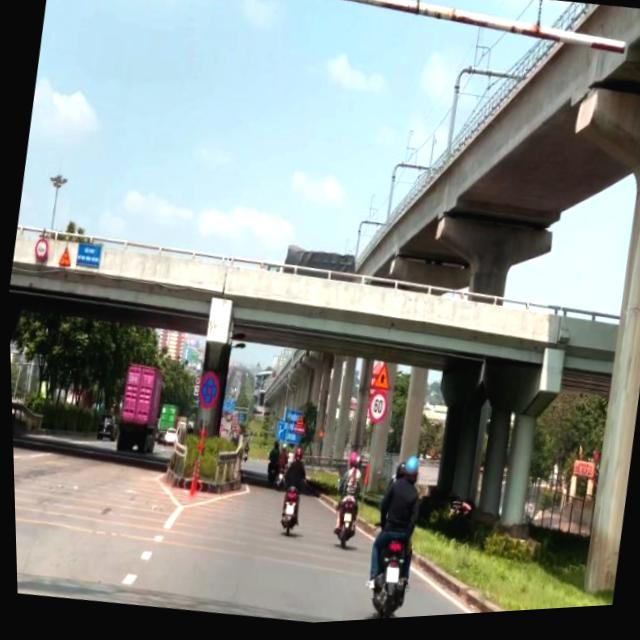Cam dung xe va do xe: (193, 373, 220, 413)
Chieu cao an toan: (57, 245, 72, 268)
Di cham: (293, 416, 304, 430)
Giao nhau voi duong khong uu tien ben phai: (368, 366, 392, 397)
Han che chieu cao: (32, 236, 49, 262)
Toc do toi da cho phep: (363, 392, 388, 430)
